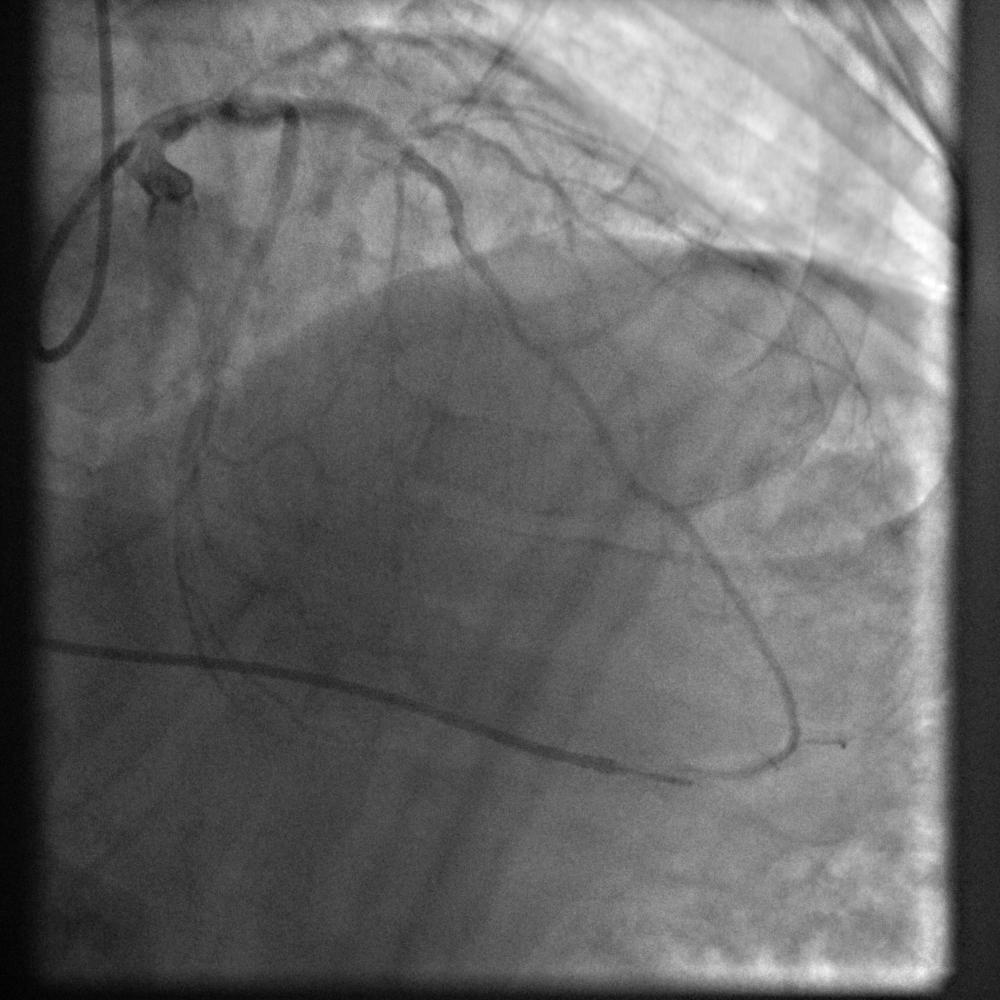Stenosis: (375, 112, 447, 161)
